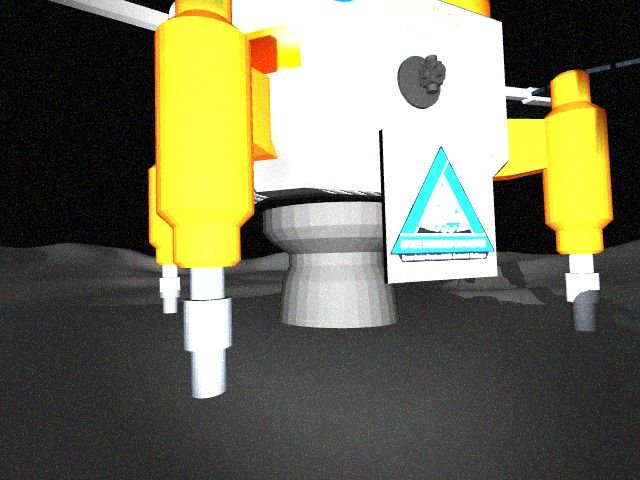basemarker: (388, 143, 497, 262)
